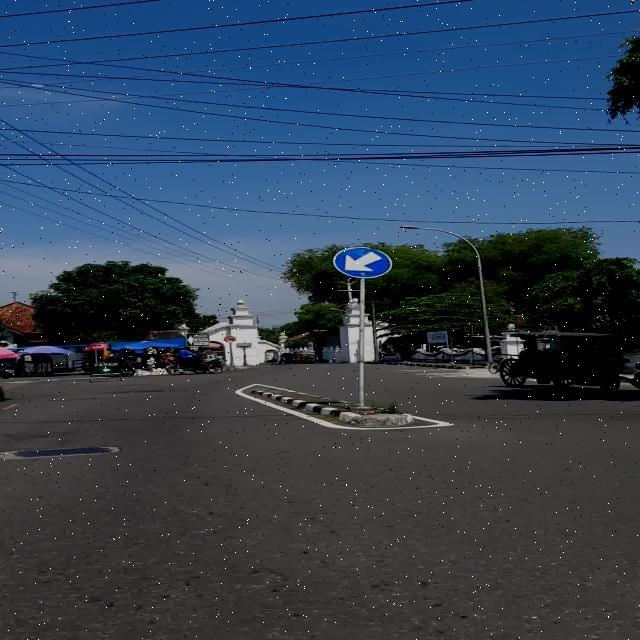Lajur Kiri: (332, 246, 392, 278)
